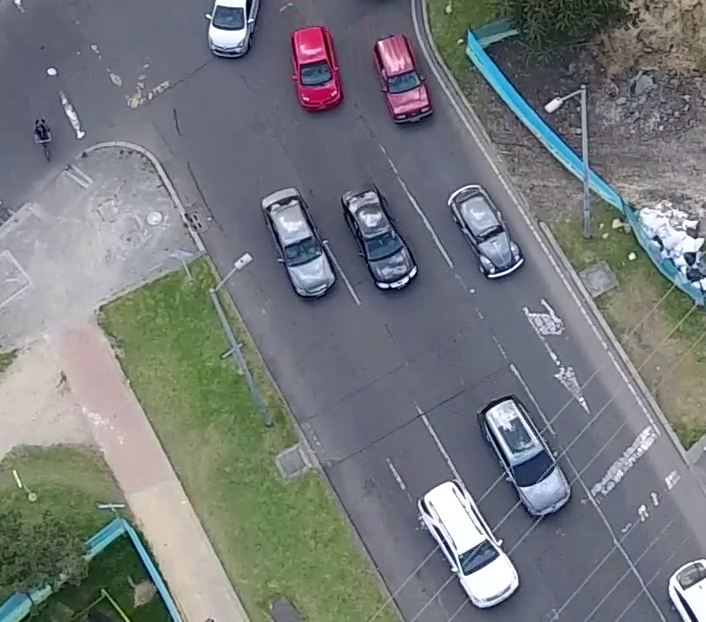car: (414, 475, 524, 610), (475, 393, 573, 521), (337, 178, 421, 295), (256, 186, 339, 302), (442, 181, 526, 284), (373, 31, 434, 129), (287, 24, 346, 115)
